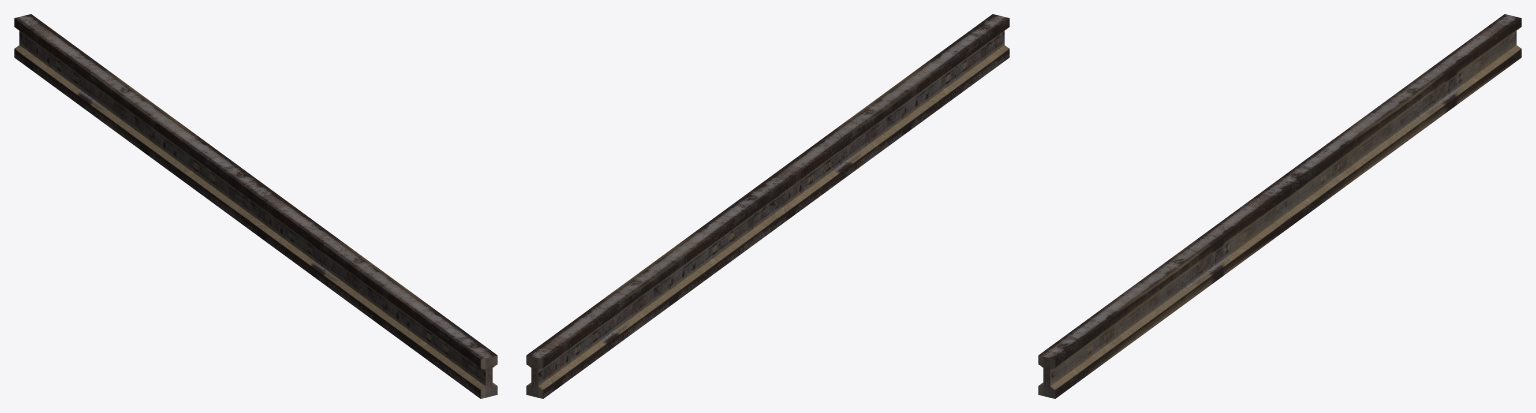
The model's file is SM_TracksRail6m.FBX.
The picture shows the model from 3 angles, left to right: view 1: azimuth 30°, elevation 25°; view 2: azimuth 150°, elevation 25°; view 3: azimuth 330°, elevation 25°; orthographic projection.
Visible parts, largest first — view 1: SM_TracksRail6m; view 2: SM_TracksRail6m; view 3: SM_TracksRail6m.
Part boxes in pixels (bbox=[...]): SM_TracksRail6m: bbox=[14, 14, 497, 398]; SM_TracksRail6m: bbox=[526, 14, 1009, 398]; SM_TracksRail6m: bbox=[1038, 14, 1521, 398].
Size of the model in its own units: 12.6 by 600 by 28.
